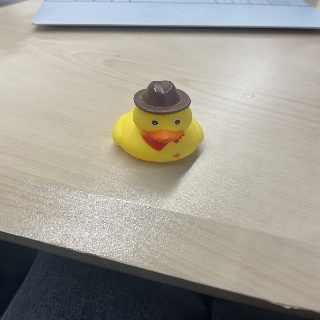duck_specialty: (111, 81, 204, 162)
